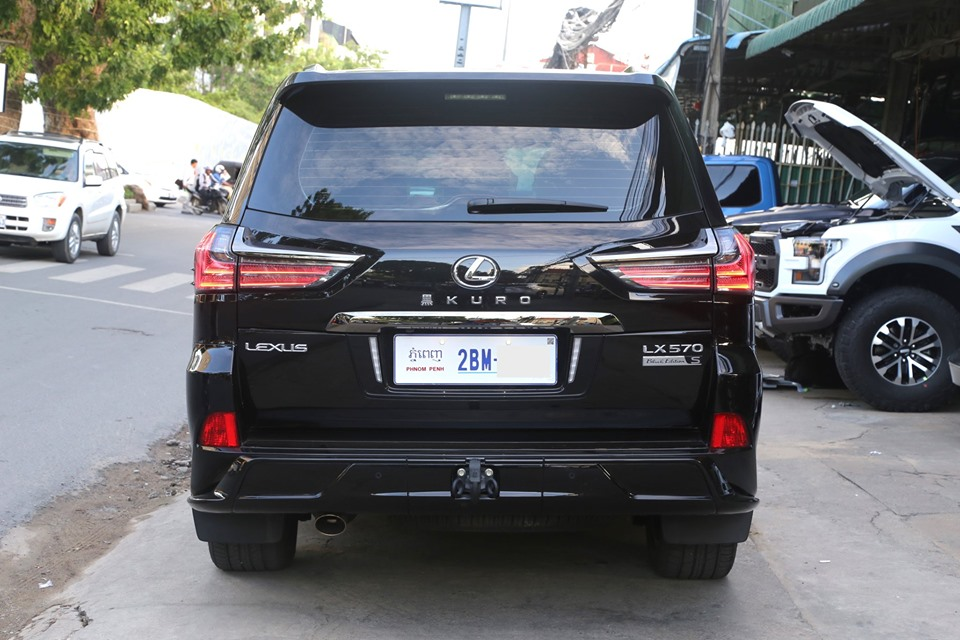car: (176, 57, 770, 589), (1, 129, 133, 264)
